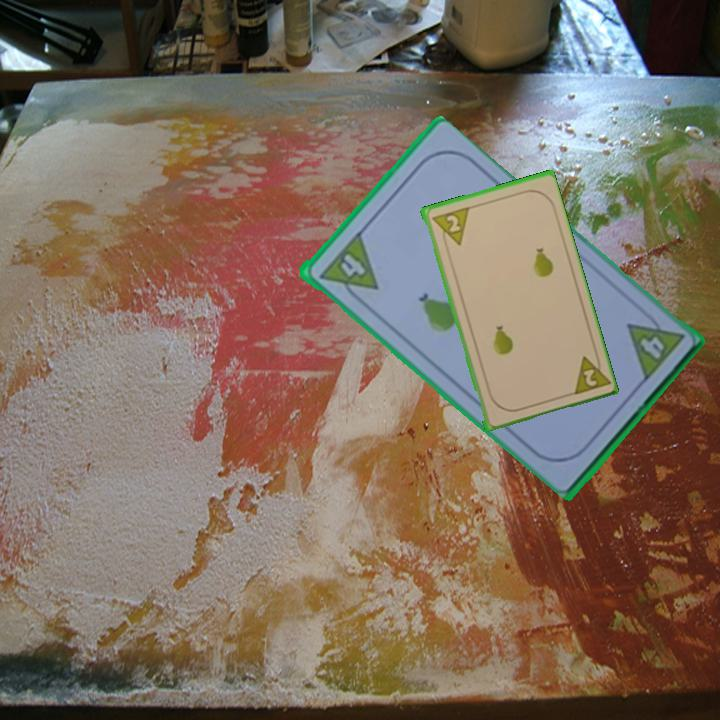2p: (567, 348, 611, 398), (427, 203, 471, 251)
4p: (314, 229, 381, 308), (622, 304, 687, 384)
